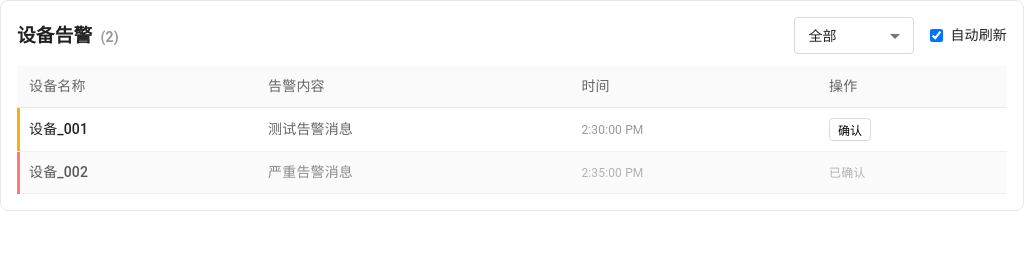
it: DeviceAlertPanel › should filter alerts by level
Press the mouse on the dropdown named "告警筛选" at x=823, y=36, box [808,28,837,44]
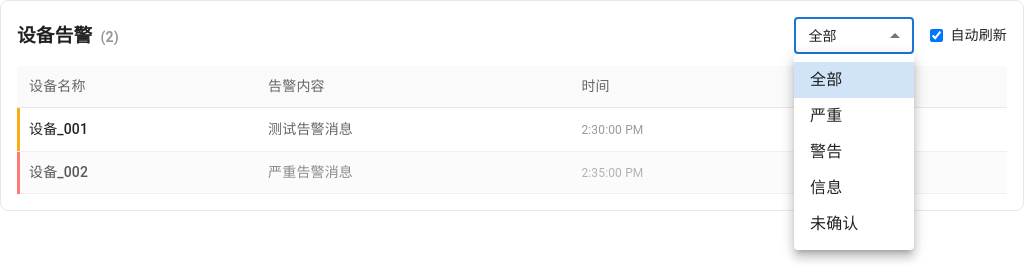
Now the option "严重" is shown
Click the option "严重" at x=826, y=116, box [810,106,842,125]
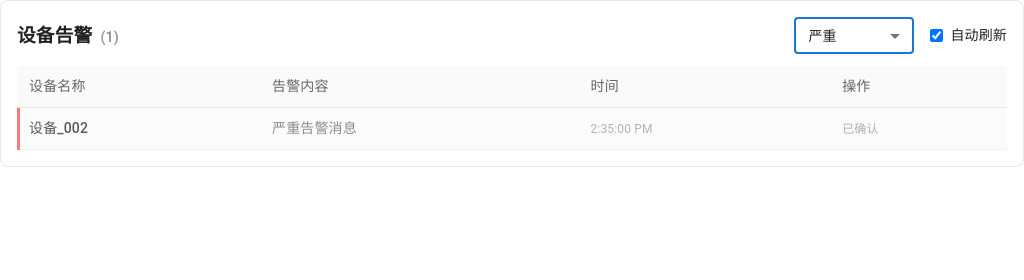
Expected: the text "设备_002" is shown, [17,108,260,150]
Now the text "设备_001" is gone
